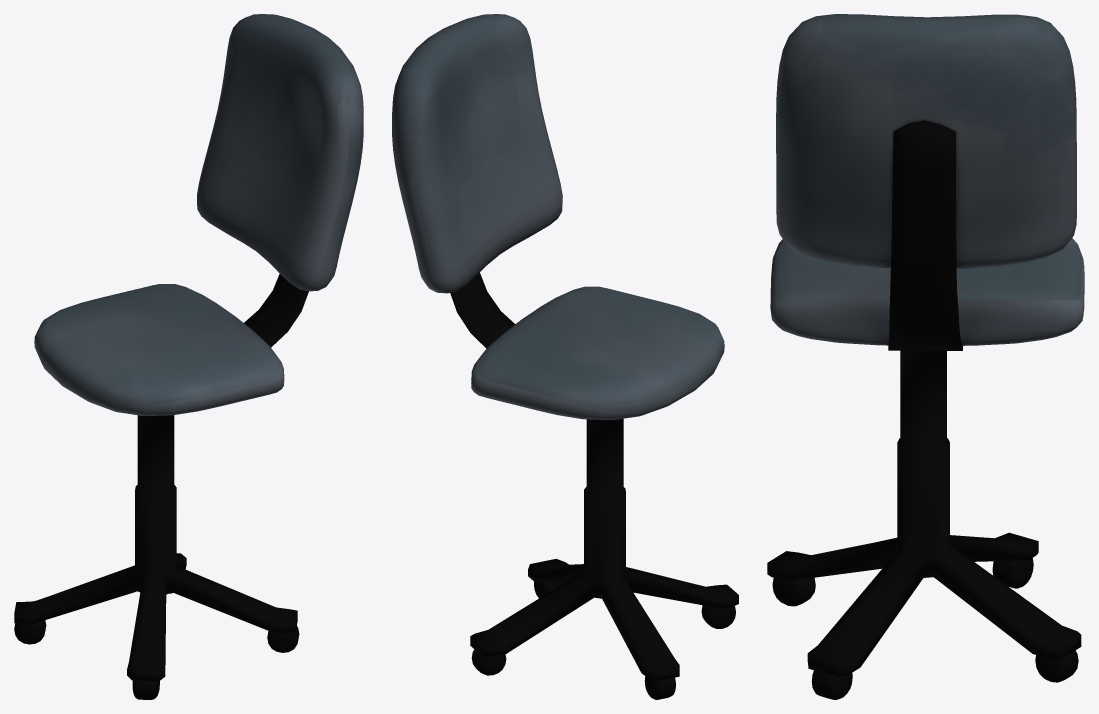
Rendered from Chair.fbx.
3 renders of one model, left to right at view 1: azimuth 30°, elevation 25°; view 2: azimuth 150°, elevation 25°; view 3: azimuth 270°, elevation 25°, orthographic. The views are drawn at different scales.
Parts seen in each view (by area): view 1: Cube.023; view 2: Cube.023; view 3: Cube.023.
Part boxes in pixels (box(x1,y1,x2,y2)): Cube.023: box(14, 14, 363, 699); Cube.023: box(392, 14, 738, 699); Cube.023: box(767, 14, 1084, 699).
Size of the model in its own units: 162 by 306 by 122.
